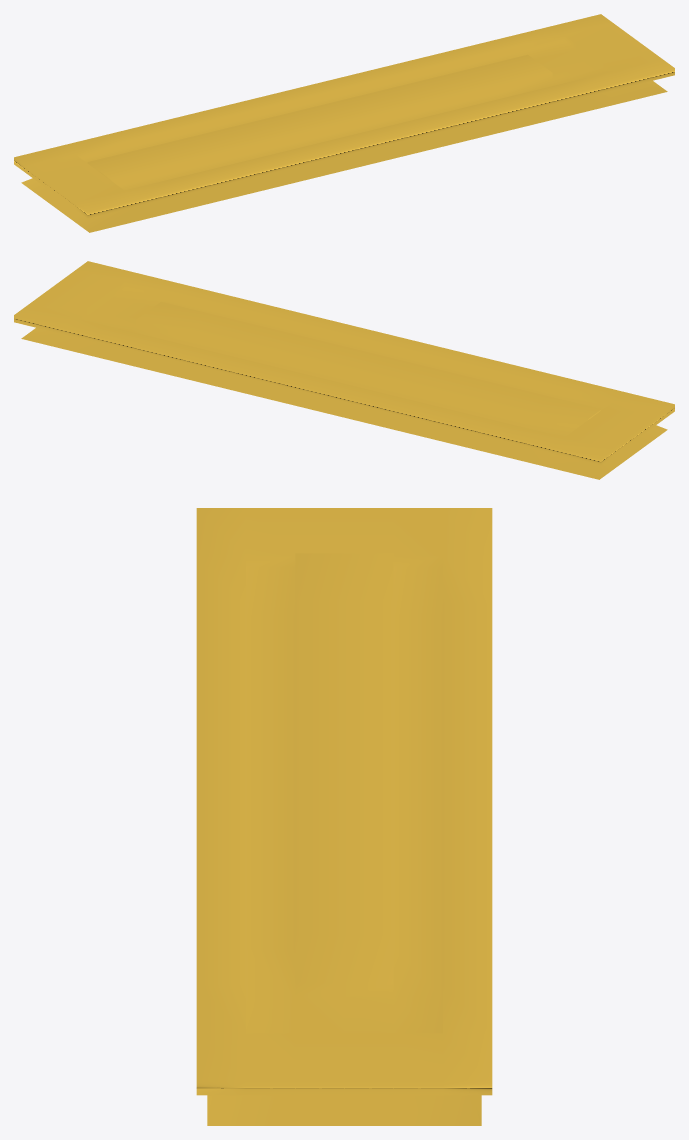
File: mesa.fbx
3 renders of one model, top to bottom at view 1: azimuth 30°, elevation 25°; view 2: azimuth 150°, elevation 25°; view 3: azimuth 270°, elevation 25°, orthographic. The views are drawn at different scales.
Parts seen in each view (by area): view 1: Cube; view 2: Cube; view 3: Cube.
Boxes of the visible parts, <box> form: Cube: <box>14,14,674,232</box>; Cube: <box>14,261,674,479</box>; Cube: <box>196,508,492,1125</box>.
Size of the model in its own units: 8.92 by 1.95 by 0.3753.
